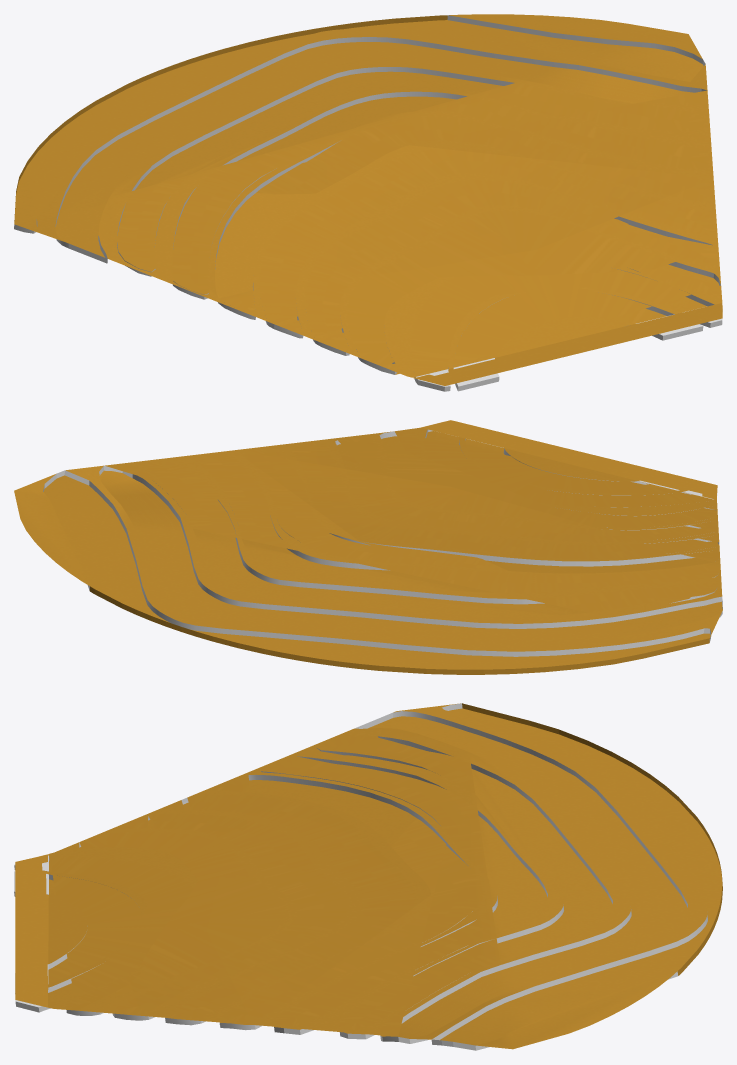
The model's file is teatro 1.fbx.
3 views of the same model, one above another, from view 1: azimuth 30°, elevation 25°; view 2: azimuth 150°, elevation 25°; view 3: azimuth 270°, elevation 25° (orthographic). The views are drawn at different scales.
Parts seen in each view (by area): view 1: Circle.015; view 2: Circle.015; view 3: Circle.015.
Boxes of the visible parts, <box> form: Circle.015: <box>14,14,722,391</box>; Circle.015: <box>14,420,722,674</box>; Circle.015: <box>14,703,722,1050</box>.
Bounding box in the file's own units: 46238 × 3935 × 39884.
2 materials, 1 textured.
